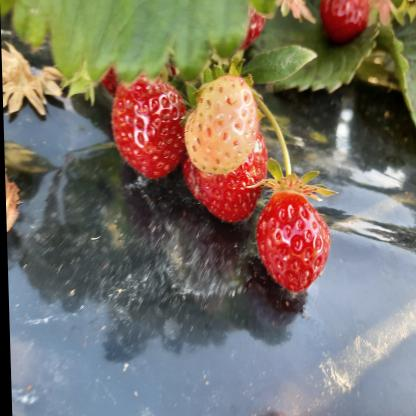ripe: (189, 124, 270, 216), (109, 82, 185, 175), (256, 185, 324, 288), (316, 0, 373, 40)
unripe: (187, 77, 251, 170)
